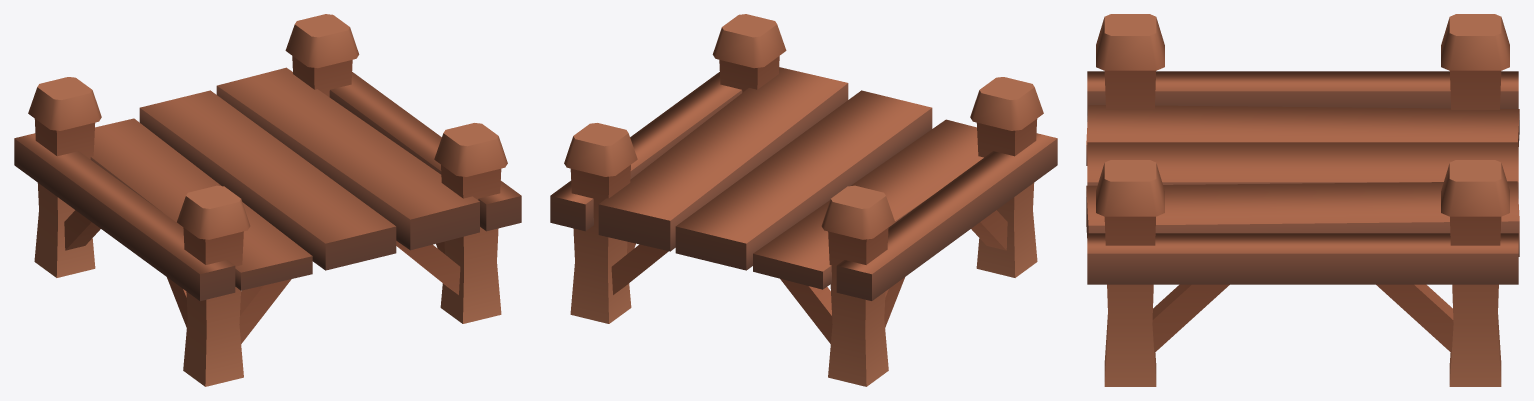
File: structure-platform-dock.glb
3 views of the same model, side by side, from view 1: azimuth 30°, elevation 25°; view 2: azimuth 150°, elevation 25°; view 3: azimuth 270°, elevation 25° (orthographic). The views are drawn at different scales.
Visible parts, largest first — view 1: structure-platform-dock; view 2: structure-platform-dock; view 3: structure-platform-dock.
Boxes of the visible parts, bbox=[...] form: structure-platform-dock: bbox=[14, 14, 521, 386]; structure-platform-dock: bbox=[550, 14, 1057, 386]; structure-platform-dock: bbox=[1086, 14, 1519, 386].
Bounding box in the file's own units: 2.5 × 1.31 × 2.51.
